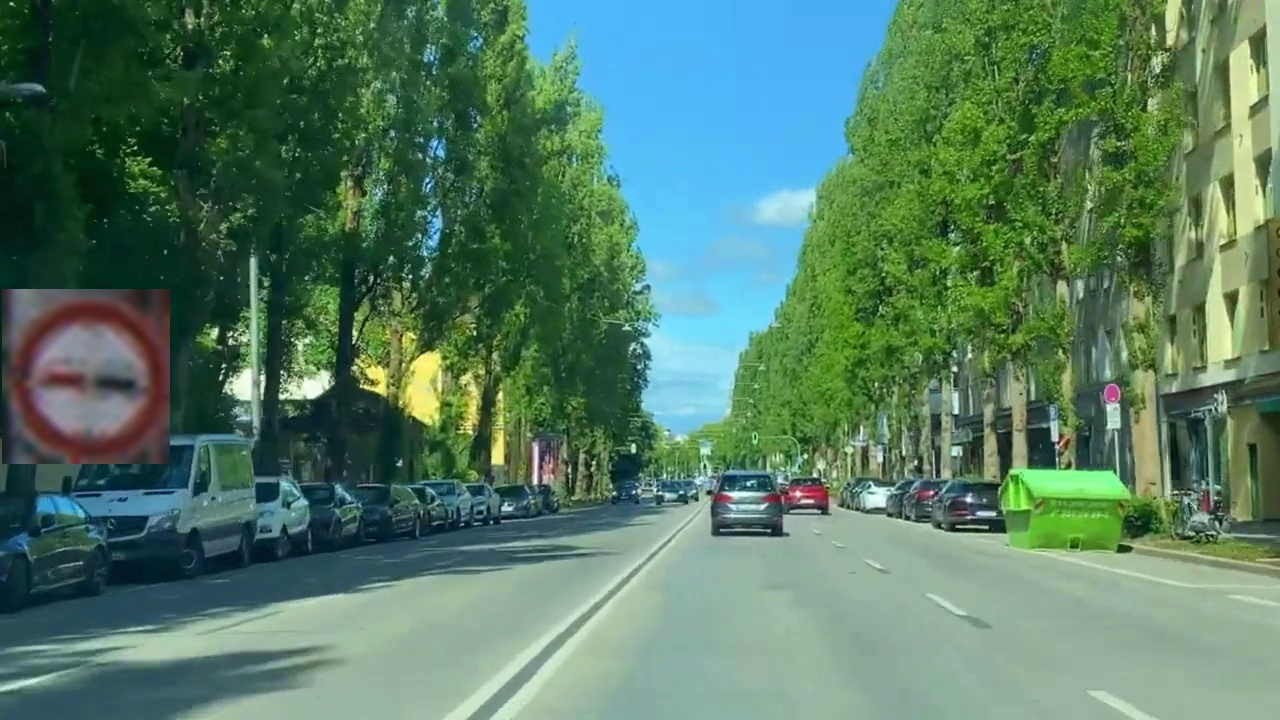No passing: (2, 289, 170, 464)
